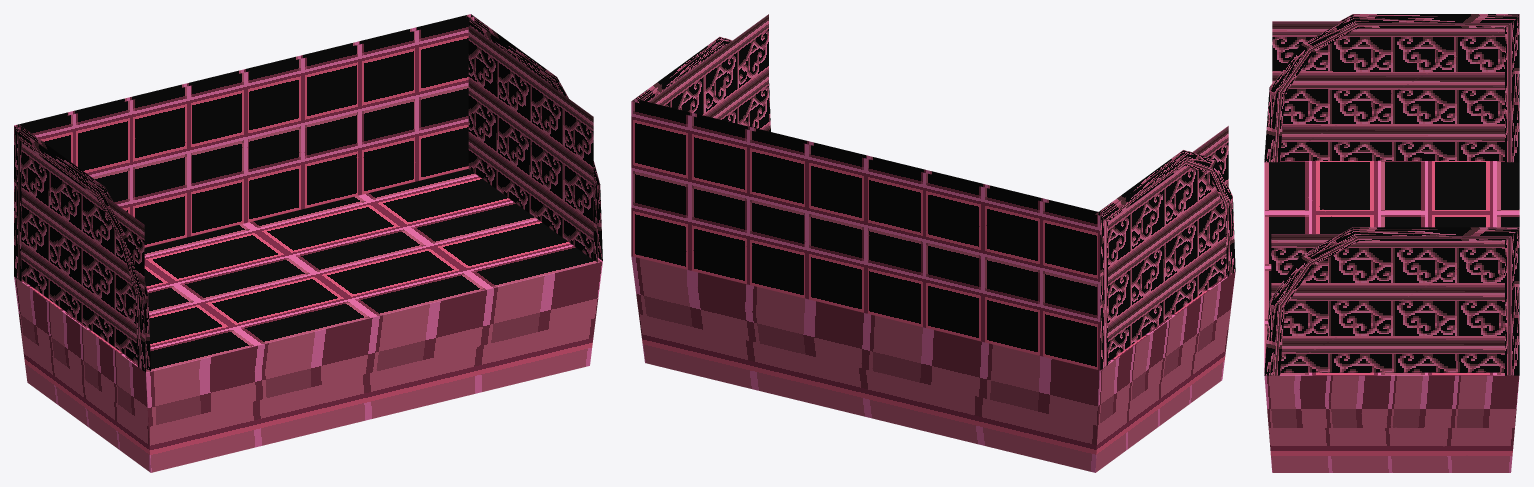
Rendered from 3877kg3case05.gltf.
3 renders of one model, left to right at view 1: azimuth 30°, elevation 25°; view 2: azimuth 150°, elevation 25°; view 3: azimuth 270°, elevation 25°, orthographic. The views are drawn at different scales.
Parts seen in each view (by area): view 1: 3877kg3case05; view 2: 3877kg3case05; view 3: 3877kg3case05.
Boxes of the visible parts, left/top/right/bottom form: 3877kg3case05: left=14, top=14, right=602, bottom=472; 3877kg3case05: left=631, top=14, right=1235, bottom=472; 3877kg3case05: left=1264, top=14, right=1519, bottom=472.
Bounding box in the file's own units: 2 × 1.07 × 1.
4 materials, 4 textured.
